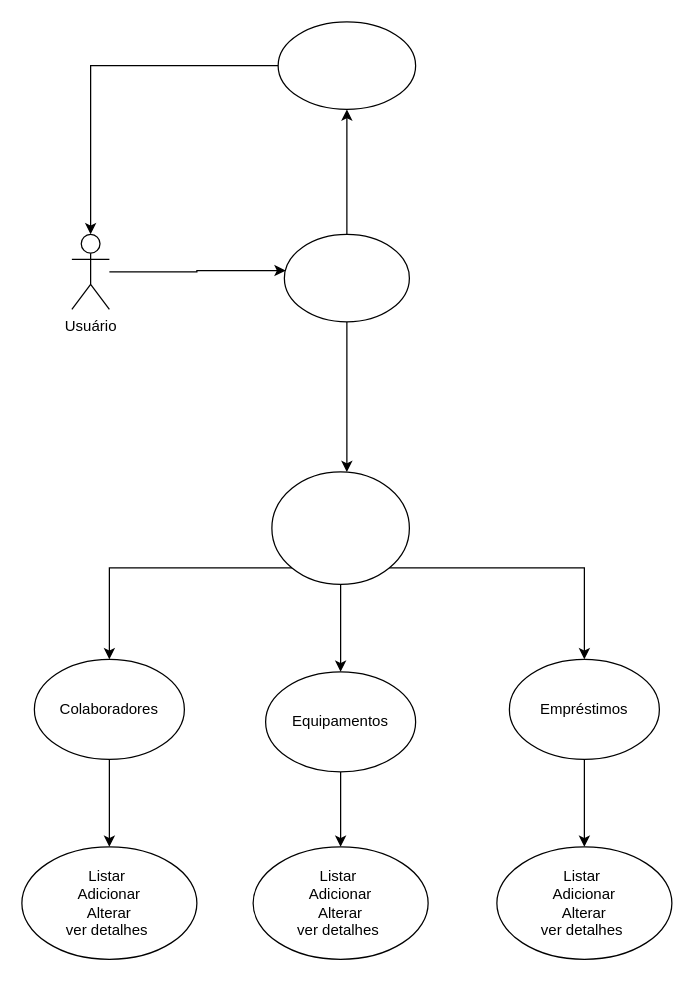
Some shapes in this 694 by 981 pixel diagram are drawn without their labels. Each missing label, with the centre of its shape:
"Cadastrar" belongs at point (346, 65).
"Fazer login" belongs at point (346, 277).
"Menu de opções" belongs at point (340, 527).
